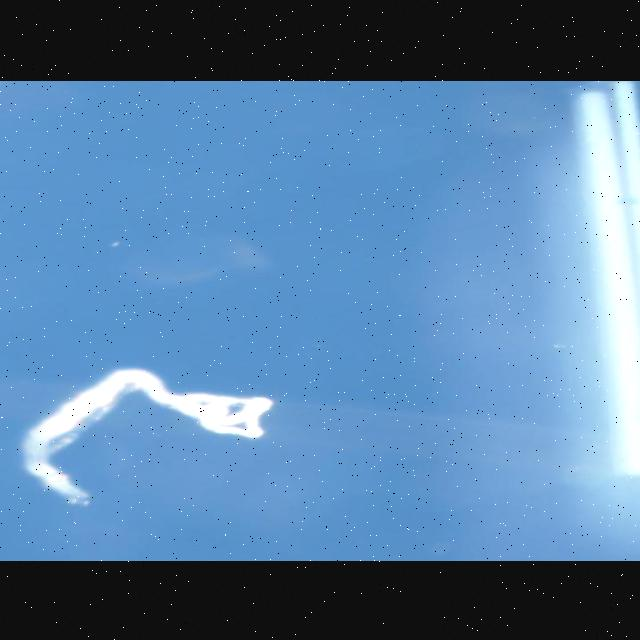Fibre: (21, 366, 276, 506)
